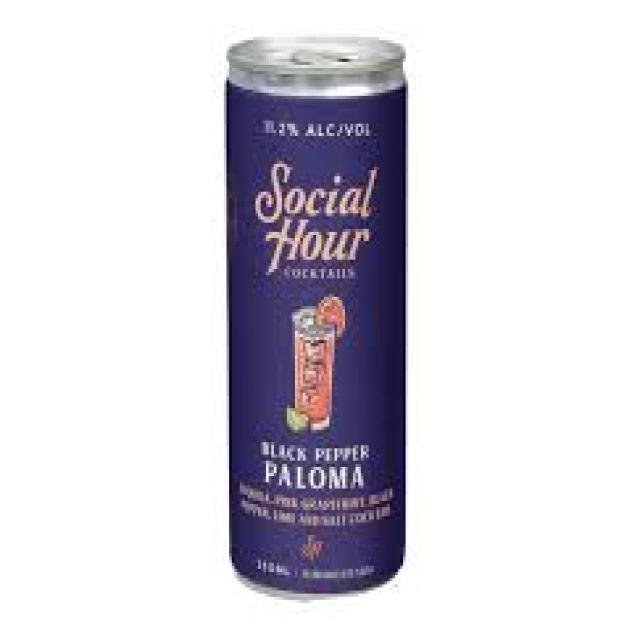Cans: (216, 24, 416, 590)
